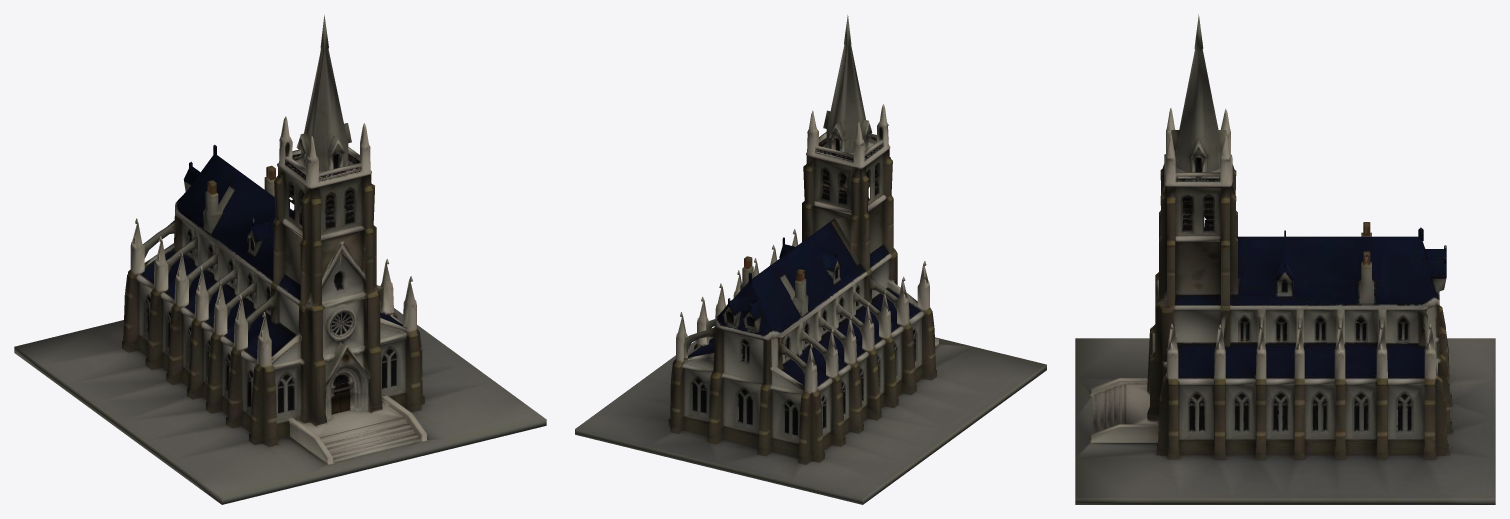
The model's file is church.glb.
3 views of the same model, side by side, from view 1: azimuth 30°, elevation 25°; view 2: azimuth 150°, elevation 25°; view 3: azimuth 270°, elevation 25° (orthographic). The views are drawn at different scales.
Visible parts, largest first — view 1: tripo_node_491bf690-331d-410a-aecd-82808; view 2: tripo_node_491bf690-331d-410a-aecd-82808; view 3: tripo_node_491bf690-331d-410a-aecd-82808.
Boxes of the visible parts, x1=… form: tripo_node_491bf690-331d-410a-aecd-82808: x1=14, y1=15, x2=546, y2=504; tripo_node_491bf690-331d-410a-aecd-82808: x1=575, y1=15, x2=1046, y2=504; tripo_node_491bf690-331d-410a-aecd-82808: x1=1075, y1=14, x2=1495, y2=504.
Size of the model in its own units: 45.96 by 55 by 50.91.
Materials: 1 (1 with a texture image).
